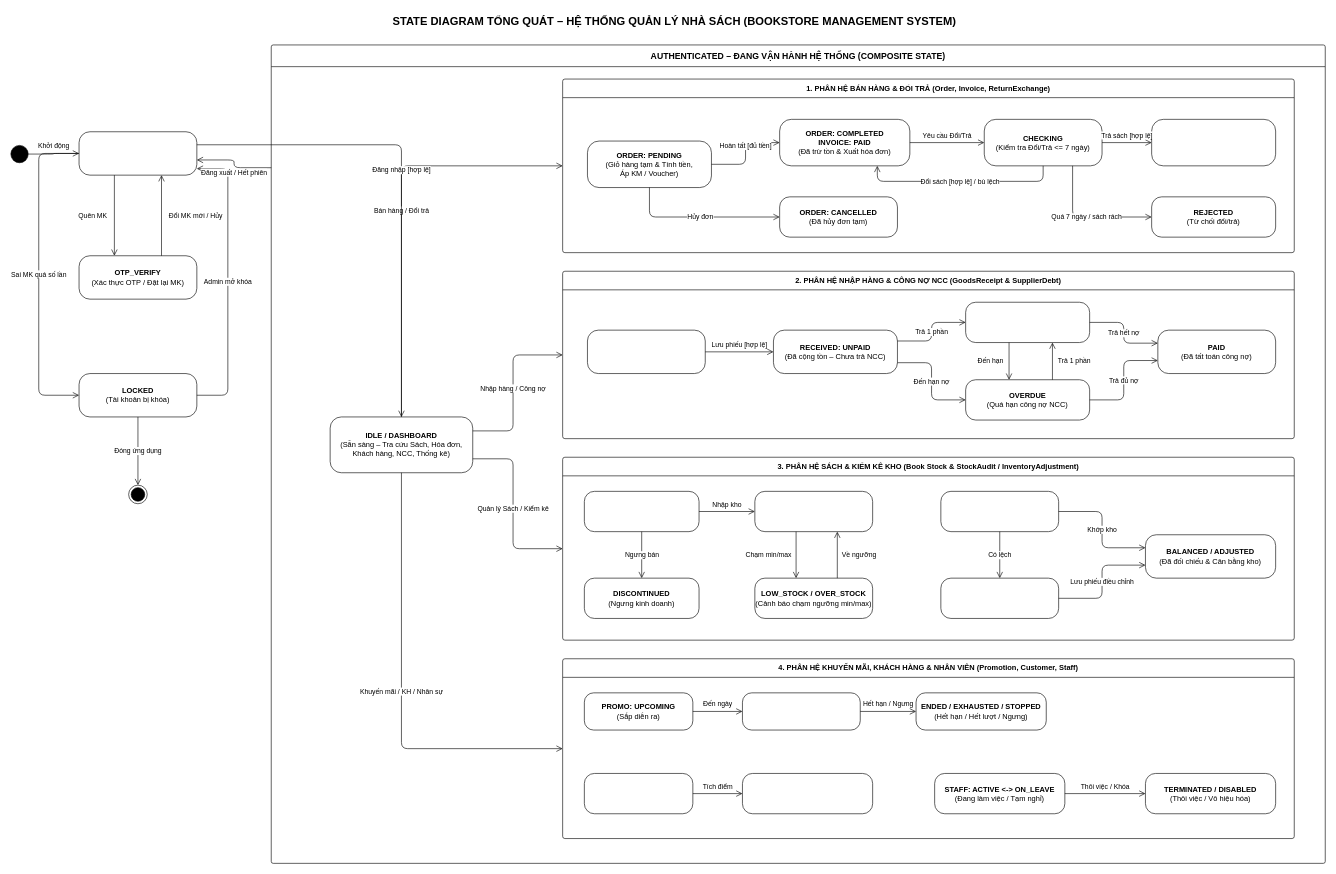
Image size: 1336x874. Some labels were removed from this diagram. The centre of each missing label's shape, as x and y in pixels:
"AUDIT: COUNTING (Đang kiểm đếm thực tế)" goes at point 999,511.
"BOOK: IN_STOCK (Còn hàng trong ngưỡng)" goes at point 813,511.
"BOOK: OUT_OF_STOCK (Hết hàng: tồn = 0)" goes at point 641,511.
"CUSTOMER: STANDARD (Hạng Chuẩn)" goes at point 638,793.
"DISCREPANCY (Chênh lệch – Chờ điều chỉnh)" goes at point 999,598.
"DRAFT (Đang lập phiếu nhập)" goes at point 646,352.
"LOGGED_OUT (Chưa đăng nhập)" goes at point 137,153.
"ORDER: RETURNED INVOICE: REFUNDED (Đã hoàn tiền & Cộng lại tồn)" goes at point 1213,142.
"PARTIALLY_PAID (Trả một phần công nợ)" goes at point 1027,322.
"PROMO / COUPON: ACTIVE (Đang hiệu lực)" goes at point 801,711.
"SILVER -> GOLD -> PLATINUM (Nâng hạng theo điểm tích lũy)" goes at point 807,793.
